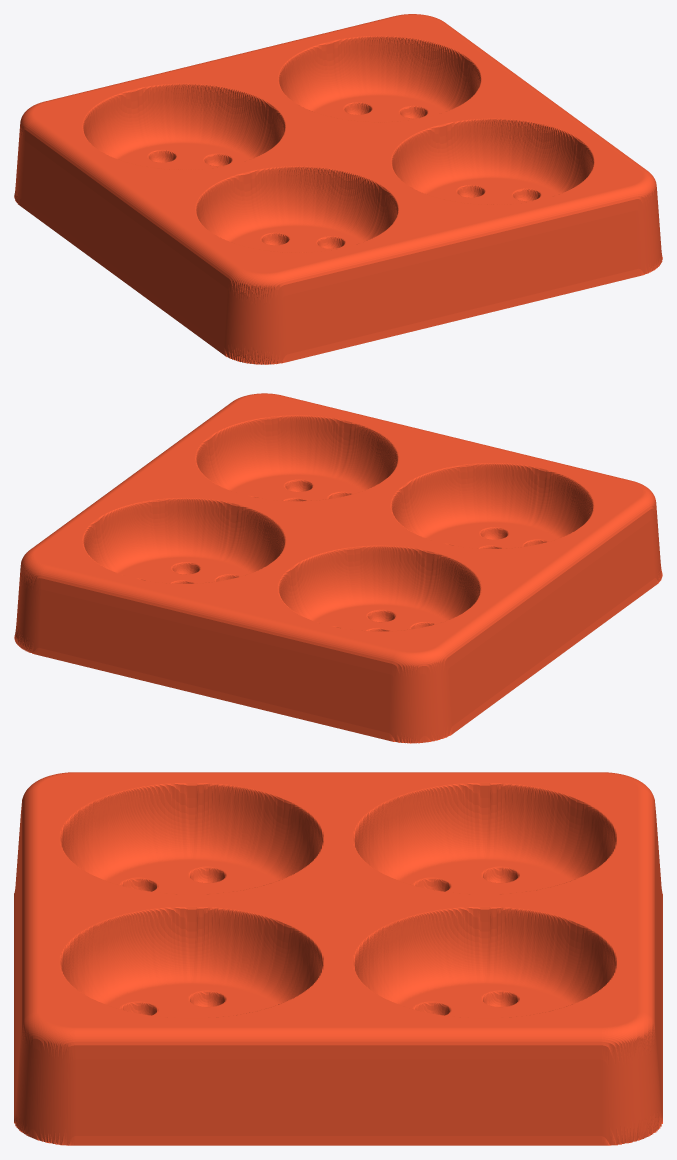
Rendered from mold.glb.
The picture shows the model from 3 angles, top to bottom: view 1: azimuth 30°, elevation 25°; view 2: azimuth 150°, elevation 25°; view 3: azimuth 270°, elevation 25°; orthographic projection. The views are drawn at different scales.
Parts seen in each view (by area): view 1: geometry_0; view 2: geometry_0; view 3: geometry_0.
Part boxes in pixels (x1,y1,x2,y2): geometry_0: [14, 14, 662, 364]; geometry_0: [14, 393, 662, 743]; geometry_0: [14, 772, 662, 1145].
Size of the model in its own units: 0.0952 by 0.0175 by 0.0952.
